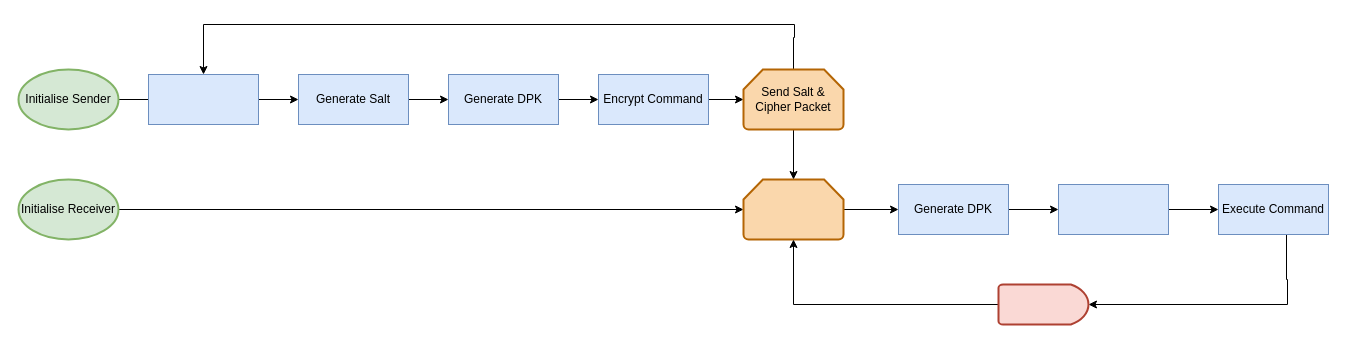
This 1346x343 diagram has some shape labels left out. The centre of each missing label's shape, as x and y in pixels:
"Decrypt Cipher" belongs at (1113,209).
"Delay" belongs at (1043,304).
"Receive Salt & Cipher Packet" belongs at (793,209).
"Select Command" belongs at (203,99).
